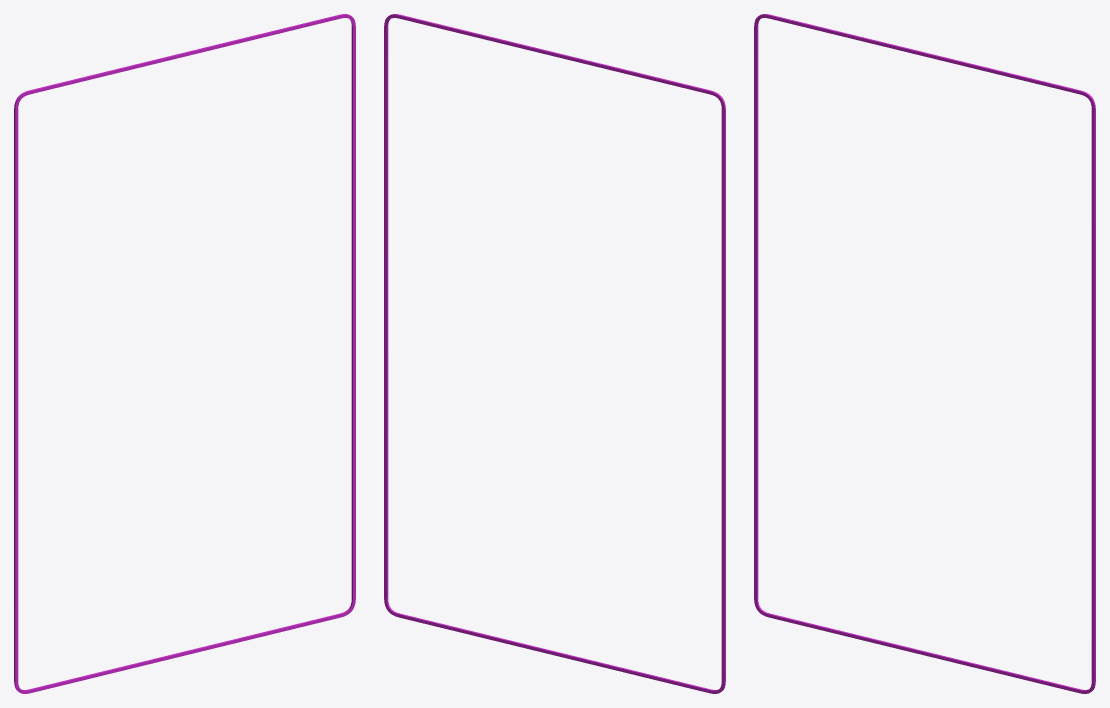
File: frame.fbx
3 renders of one model, left to right at view 1: azimuth 30°, elevation 25°; view 2: azimuth 150°, elevation 25°; view 3: azimuth 330°, elevation 25°, orthographic.
Parts seen in each view (by area): view 1: Box005; view 2: Box005; view 3: Box005.
Boxes of the visible parts, box(x1,y1,x2,y2) form: Box005: box(14, 14, 355, 693); Box005: box(384, 14, 725, 693); Box005: box(754, 14, 1095, 693).
Bounding box in the file's own units: 52.07 × 87.93 × 0.2956.
